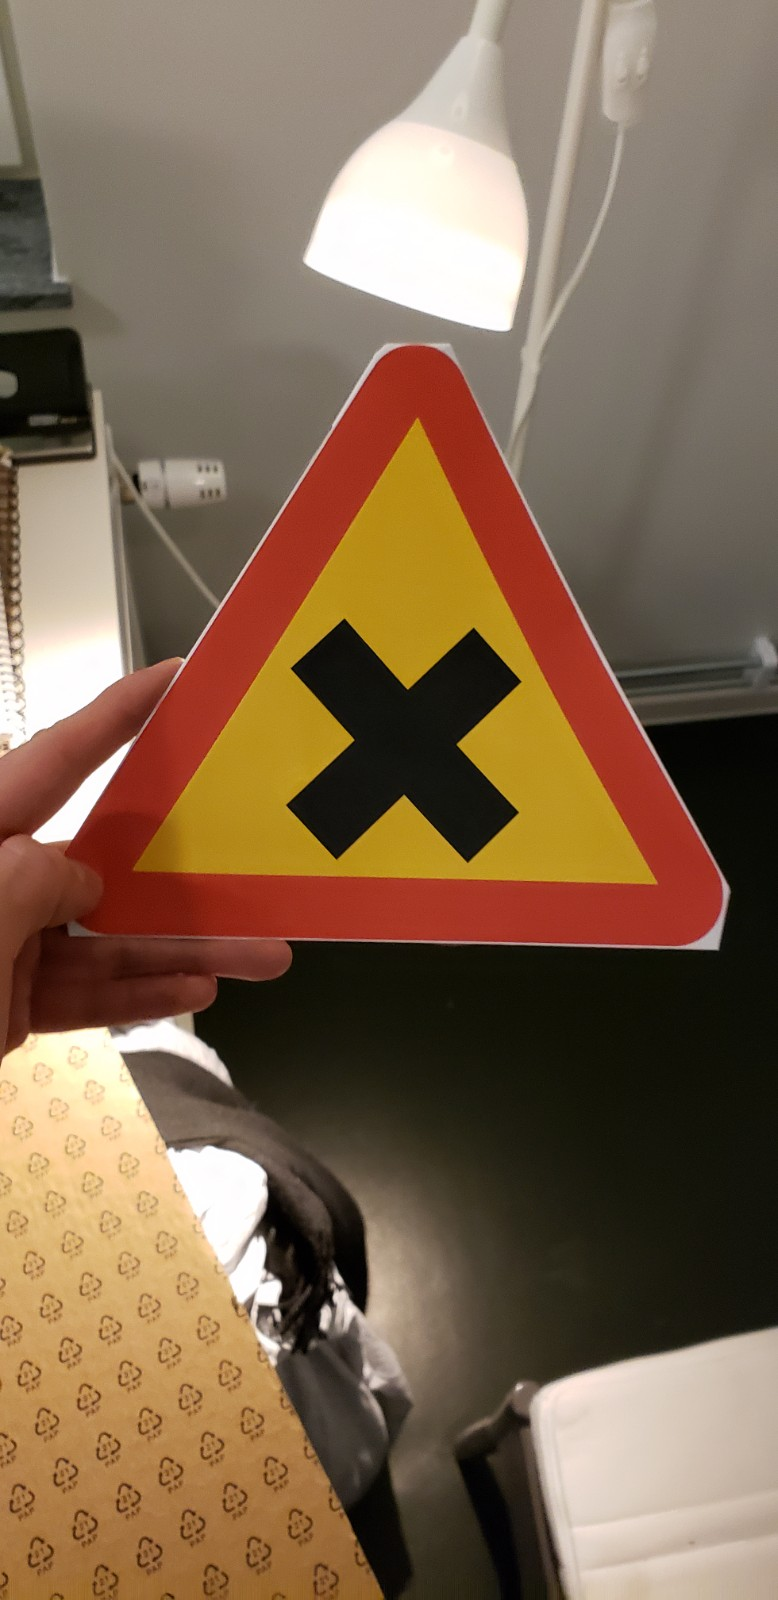junction: (35, 309, 778, 963)
